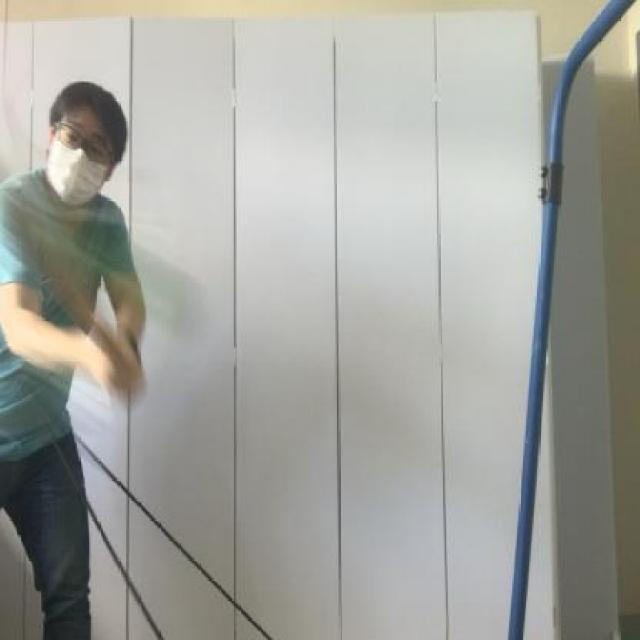baseball: (0, 187, 214, 361)
